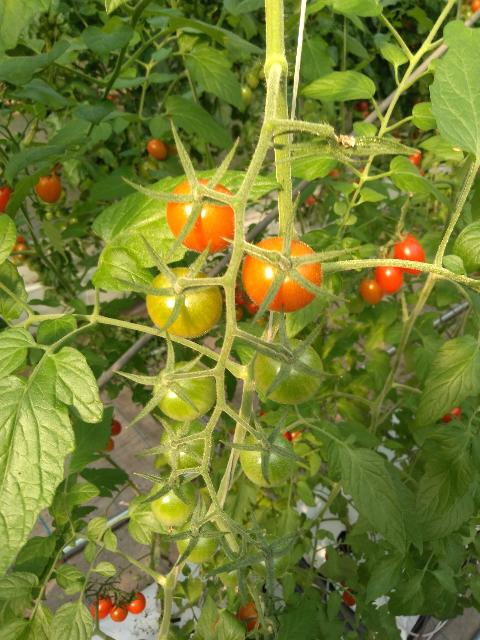l_fully_ripened: (393, 239, 425, 275), (376, 257, 404, 295), (90, 594, 112, 620), (126, 591, 146, 615), (110, 600, 128, 622)
l_green: (253, 339, 325, 406), (153, 361, 218, 421), (239, 428, 296, 487), (160, 419, 215, 471), (149, 473, 195, 526), (177, 515, 220, 565), (250, 533, 290, 580), (219, 551, 250, 587)
l_half_ripened: (241, 236, 323, 313), (166, 178, 239, 255), (146, 267, 222, 339), (237, 602, 267, 633), (36, 173, 61, 204), (359, 278, 383, 306), (147, 140, 166, 160)
